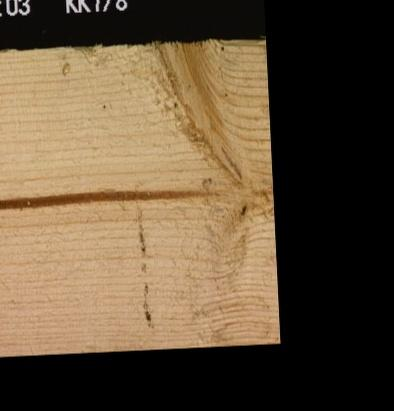small_knot: (234, 202, 252, 217)
